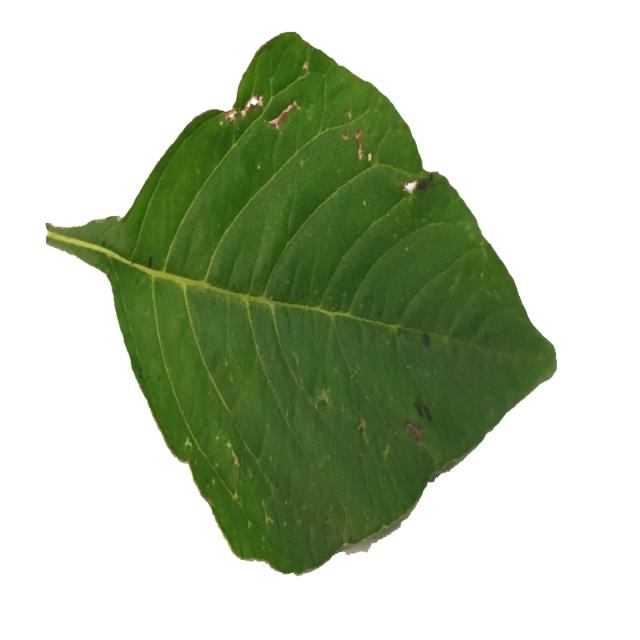Medicinal-Arive Dantu: (47, 25, 558, 587)
